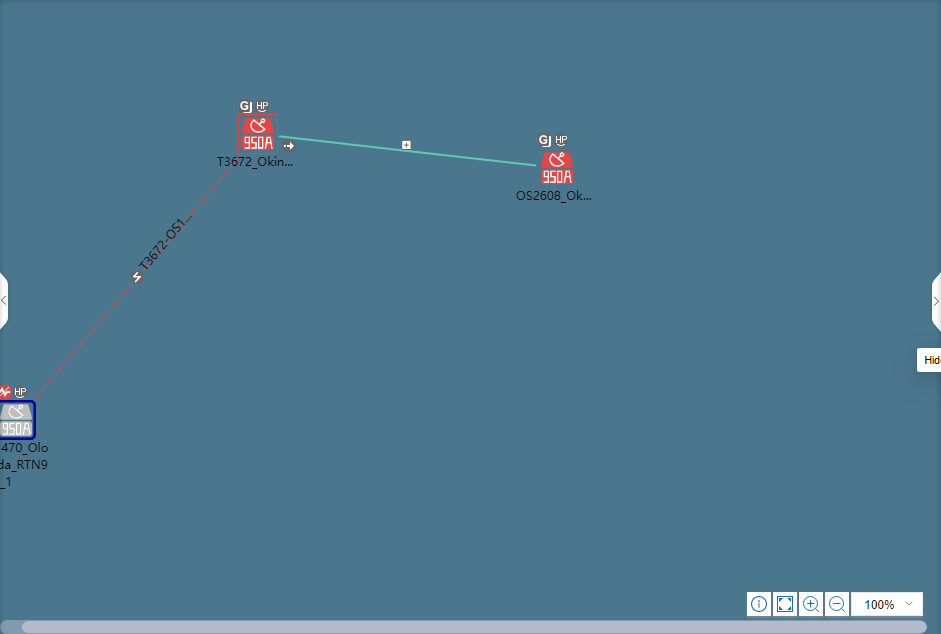Link_Blue: (279, 135, 537, 168)
Link_Red: (32, 156, 240, 401)
RTN_Gray: (0, 404, 34, 438)
RTN_Red: (240, 116, 277, 150), (541, 152, 572, 184)
